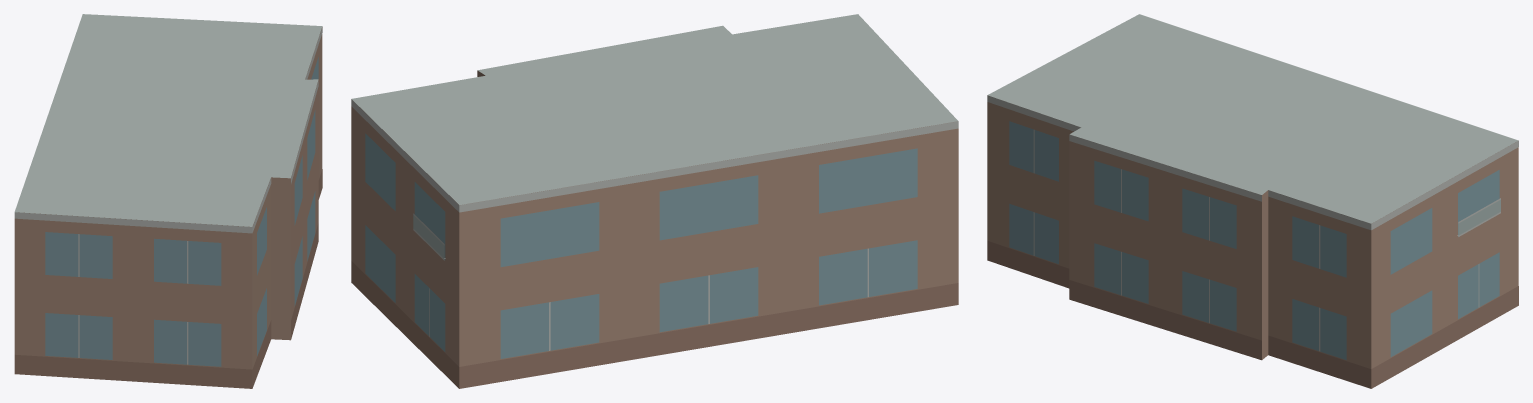
File: survey-upis-32600617.glb
The picture shows the model from 3 angles, left to right: view 1: azimuth 30°, elevation 25°; view 2: azimuth 150°, elevation 25°; view 3: azimuth 270°, elevation 25°; orthographic projection. The views are drawn at different scales.
Visible parts, largest first — view 1: survey-upis-32600617.tmp; view 2: survey-upis-32600617.tmp; view 3: survey-upis-32600617.tmp.
Boxes of the visible parts, <box> form: survey-upis-32600617.tmp: <box>14,14,322,388</box>; survey-upis-32600617.tmp: <box>351,14,958,388</box>; survey-upis-32600617.tmp: <box>987,14,1518,388</box>.
Size of the model in its own units: 16.63 by 6.1 by 17.8.
